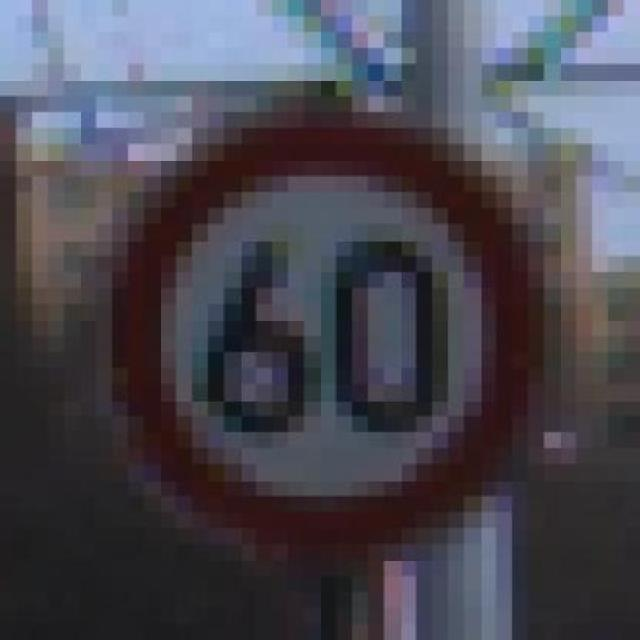forb_speed_over_60: (132, 126, 530, 537)
